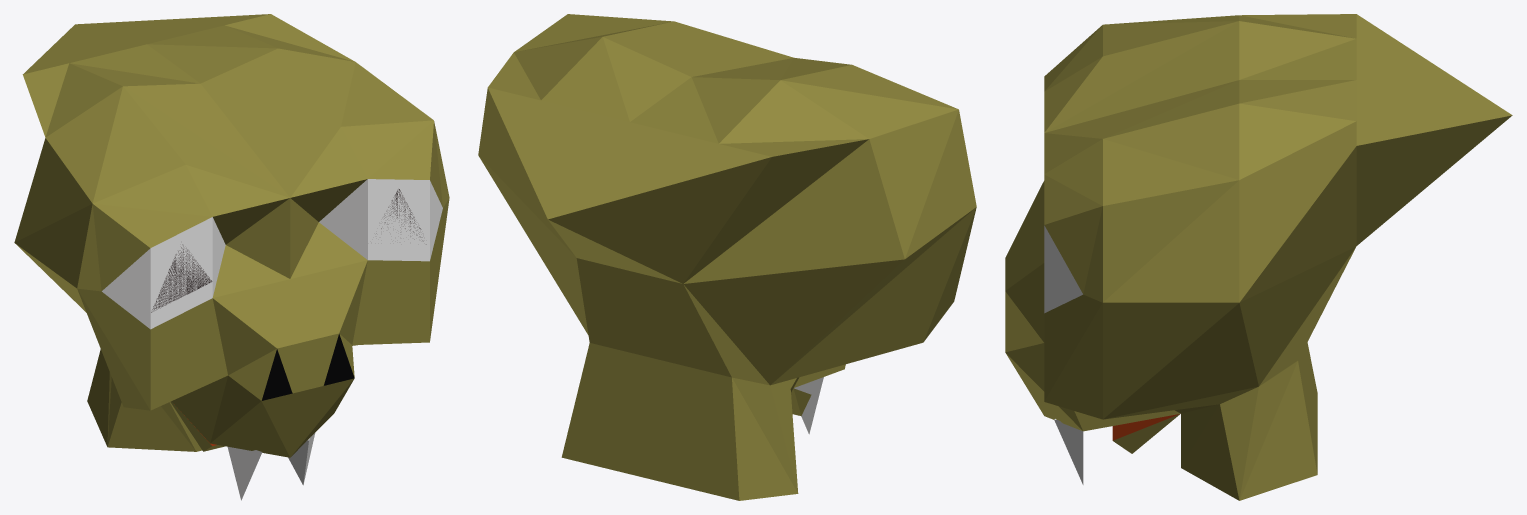
The model's file is model_146_npc_head.obj.
3 renders of one model, left to right at view 1: azimuth 30°, elevation 25°; view 2: azimuth 150°, elevation 25°; view 3: azimuth 270°, elevation 25°, orthographic. The views are drawn at different scales.
Parts seen in each view (by area): view 1: 146; view 2: 146; view 3: 146.
Part boxes in pixels (x1,y1,x2,y2): 146: [14, 14, 449, 500]; 146: [478, 14, 976, 500]; 146: [1005, 14, 1512, 500].
Bounding box in the file's own units: 96 × 92 × 104.
